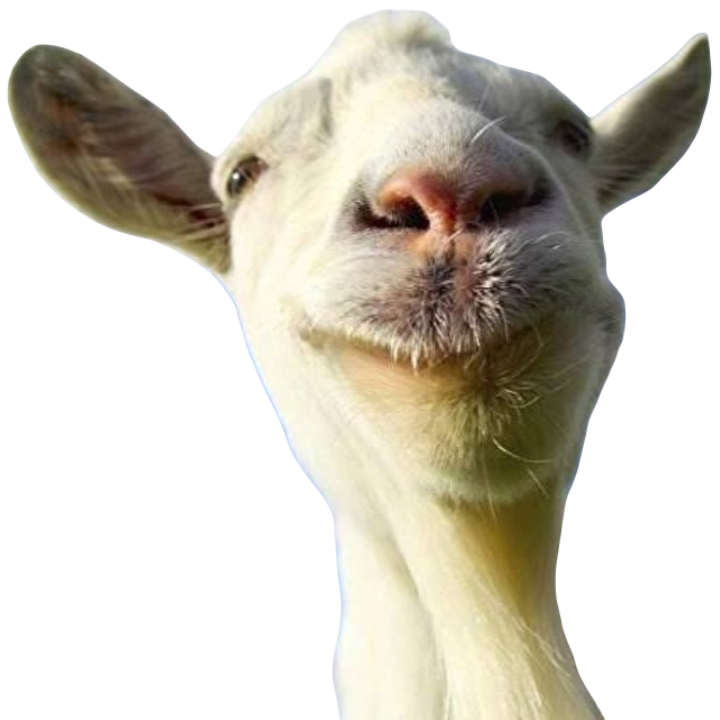Goat: (7, 10, 711, 715)
